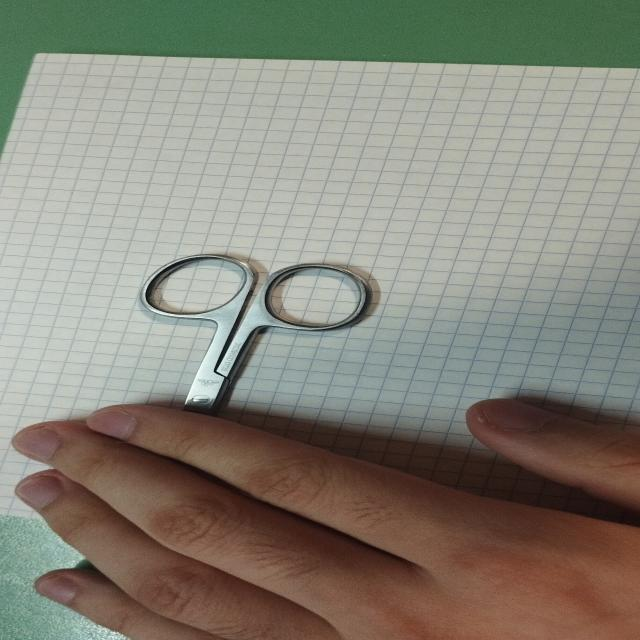tesoura: (130, 244, 387, 494)
